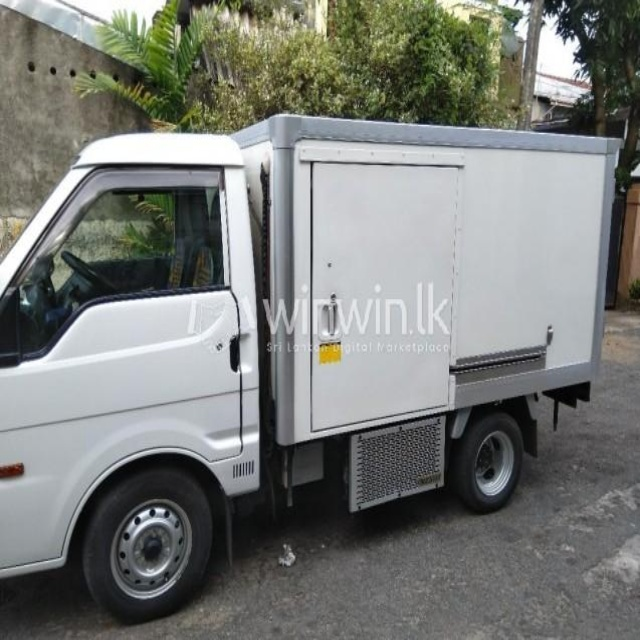Truck: (3, 111, 625, 627)
